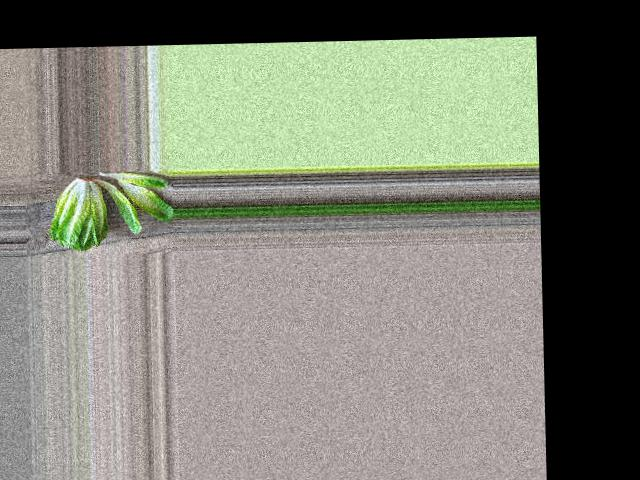lettuce: (46, 179, 111, 250)
